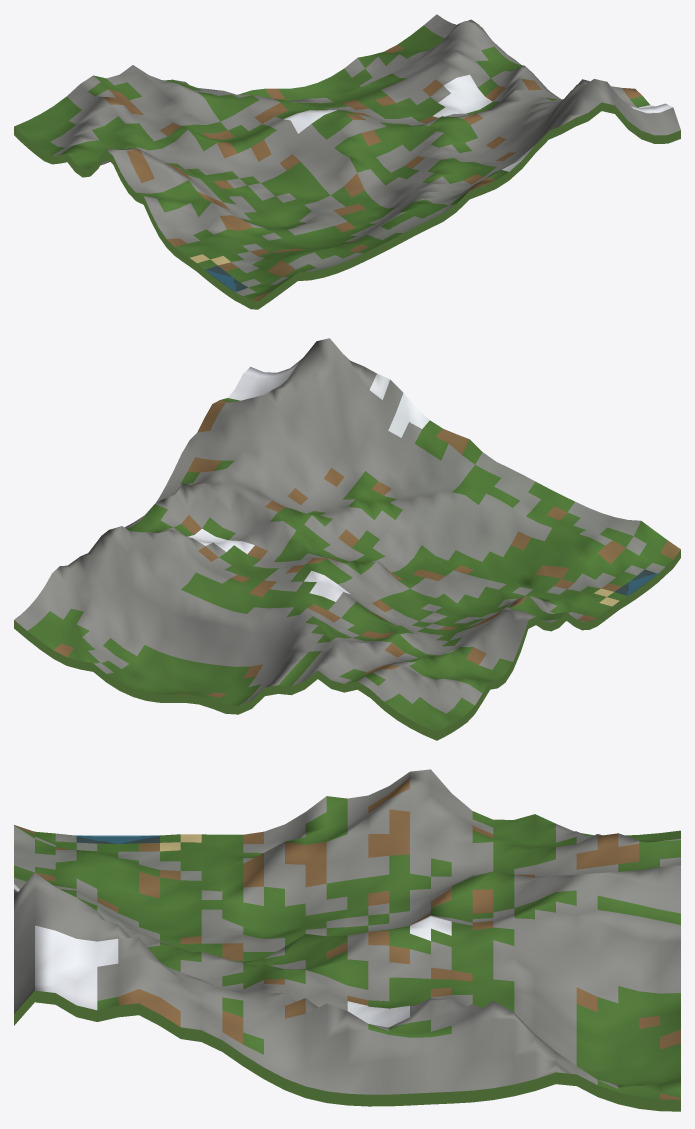
File: chunk_3_1_lod1.glb
3 views of the same model, one above another, from view 1: azimuth 30°, elevation 25°; view 2: azimuth 150°, elevation 25°; view 3: azimuth 270°, elevation 25° (orthographic). The views are drawn at different scales.
Visible parts, largest first — view 1: Surface_Gravel, Surface_Grass, Surface_Dirt, Skirt, Surface_Snow, Surface_Water; view 2: Surface_Gravel, Surface_Grass, Surface_Dirt, Skirt, Surface_Snow; view 3: Surface_Gravel, Surface_Grass, Surface_Dirt, Skirt, Surface_Snow, Surface_Water.
Boxes of the visible parts, bbox=[...] form: Surface_Gravel: bbox=[50, 14, 680, 295]; Surface_Grass: bbox=[14, 25, 649, 300]; Surface_Dirt: bbox=[103, 45, 642, 300]; Skirt: bbox=[14, 102, 680, 309]; Surface_Snow: bbox=[283, 74, 672, 171]; Surface_Water: bbox=[205, 265, 247, 292]; Surface_Gravel: bbox=[14, 338, 665, 713]; Surface_Grass: bbox=[27, 398, 672, 731]; Surface_Dirt: bbox=[54, 400, 680, 697]; Skirt: bbox=[14, 550, 680, 740]; Surface_Snow: bbox=[187, 358, 429, 601]; Surface_Gravel: bbox=[14, 769, 680, 1094]; Surface_Grass: bbox=[14, 796, 680, 1099]; Surface_Dirt: bbox=[14, 778, 680, 1099]; Skirt: bbox=[14, 990, 680, 1111]; Surface_Snow: bbox=[14, 884, 451, 1027]; Surface_Water: bbox=[76, 836, 159, 844].
Size of the model in its own units: 256 by 102 by 256.
